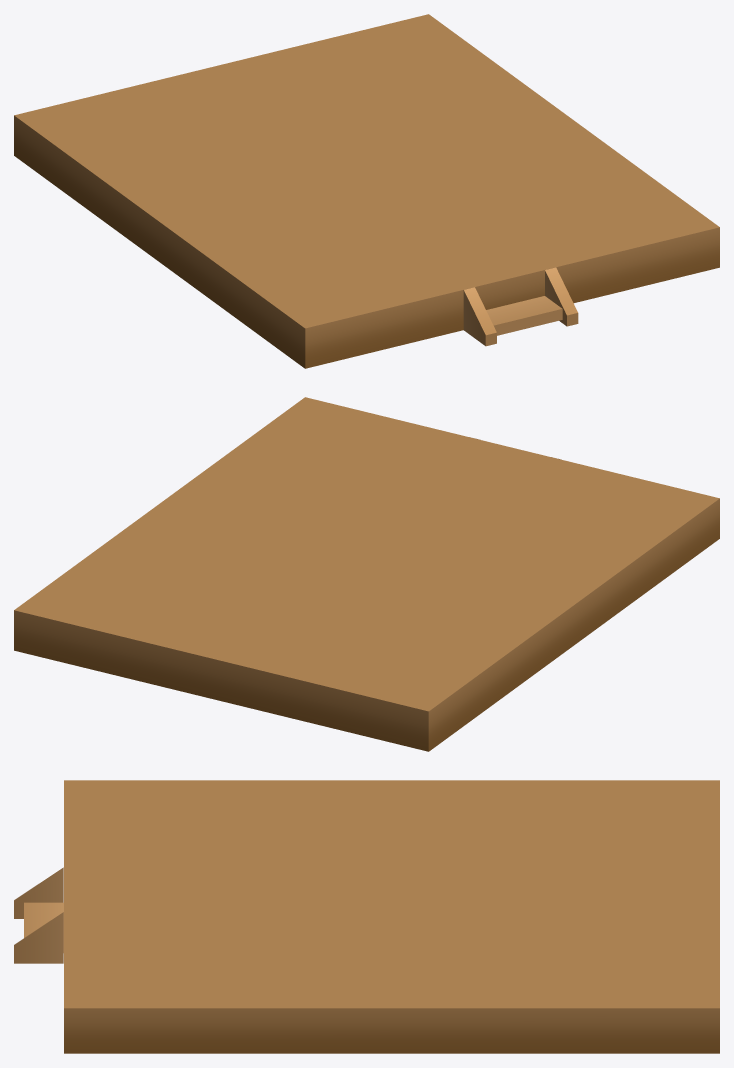
Rendered from House_4x5_Base.fbx.
The picture shows the model from 3 angles, top to bottom: view 1: azimuth 30°, elevation 25°; view 2: azimuth 150°, elevation 25°; view 3: azimuth 270°, elevation 25°; orthographic projection. The views are drawn at different scales.
Parts seen in each view (by area): view 1: House_4x5_Base; view 2: House_4x5_Base; view 3: House_4x5_Base.
Boxes of the visible parts, <box> form: House_4x5_Base: <box>14,14,719,368</box>; House_4x5_Base: <box>14,397,719,751</box>; House_4x5_Base: <box>14,780,719,1053</box>.
Bounding box in the file's own units: 4.84 × 0.45 × 6.33.
1 material, 1 textured.
